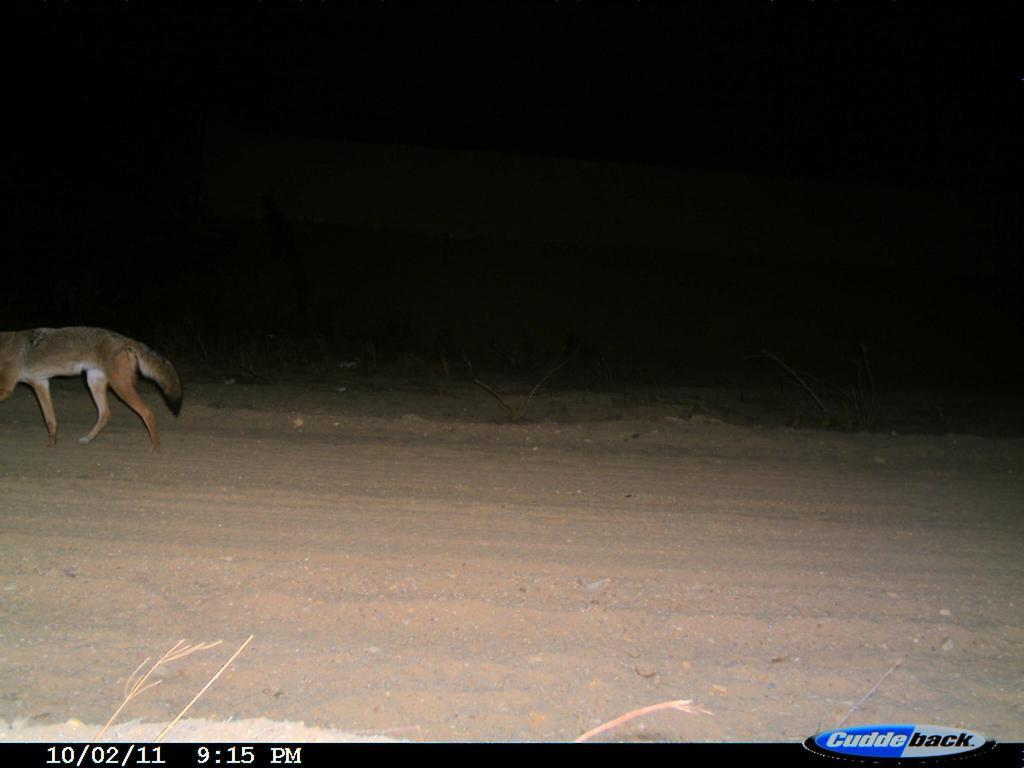coyote: (1, 324, 191, 460)
